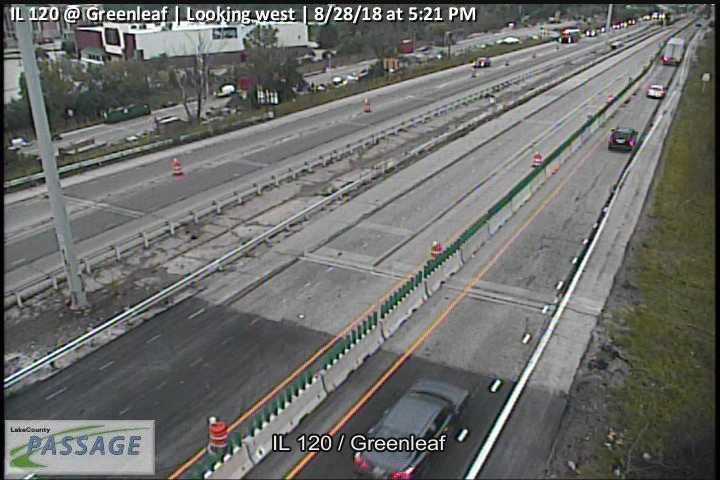Sedan: (350, 376, 471, 480), (606, 126, 640, 151), (646, 83, 665, 99), (473, 55, 490, 67)
Truck: (659, 36, 686, 66), (557, 28, 582, 43)
